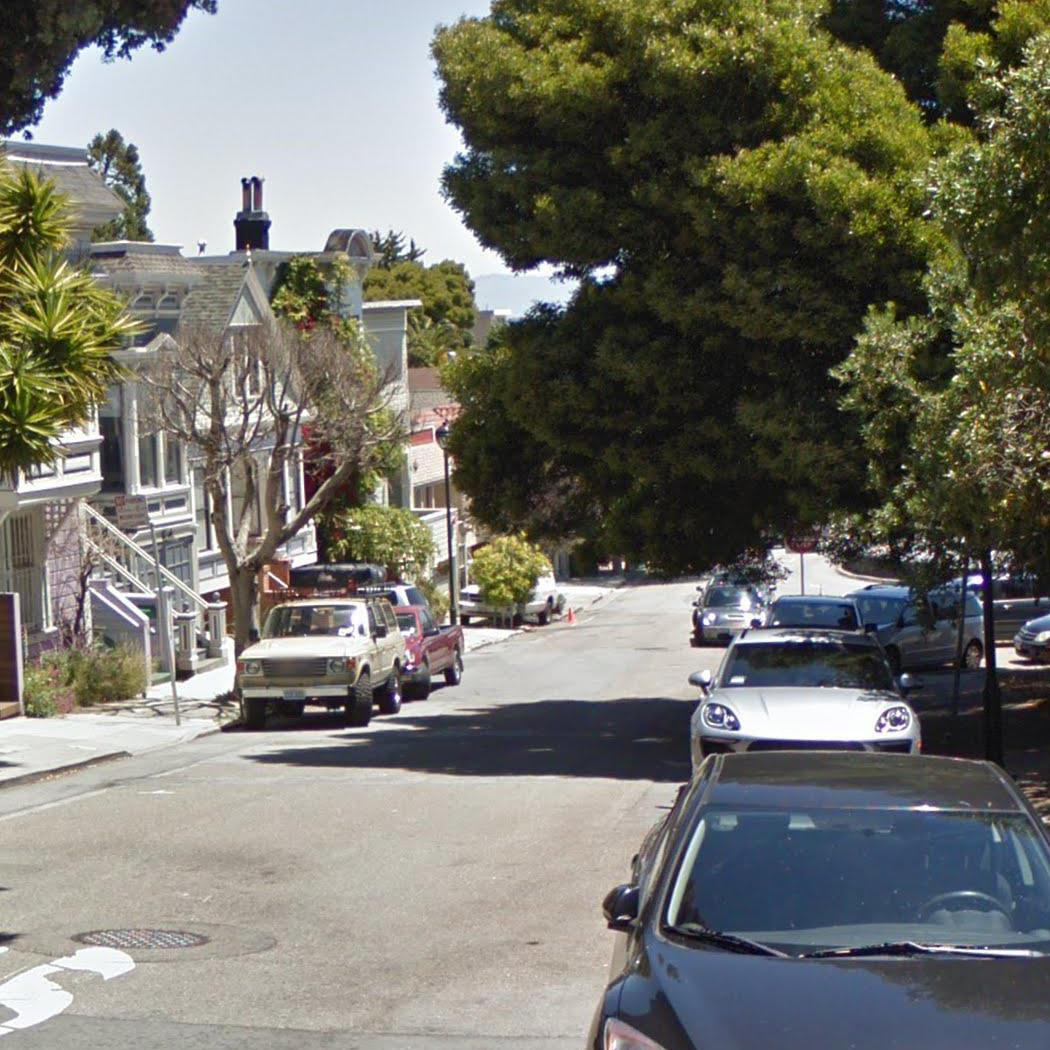No Parking: (111, 491, 154, 531)
